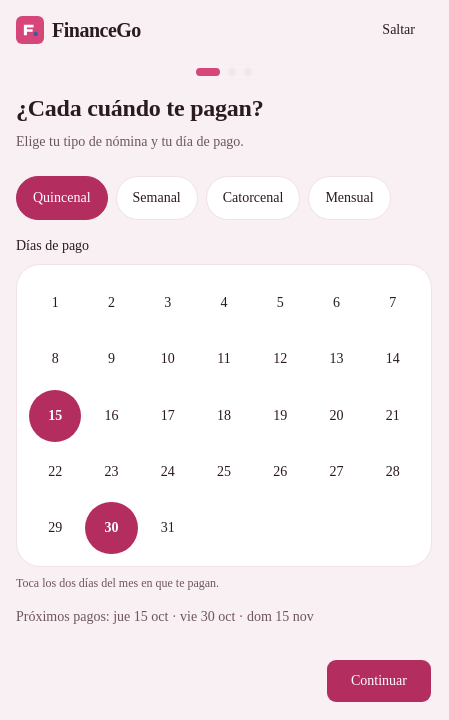
Test: WelcomeFlow › puts a server field error under its fixed-payment row and keeps the user there
This screenshot has width=449, height=720.
Click the button "Continuar" at (379, 682), box [326,660,432,704]
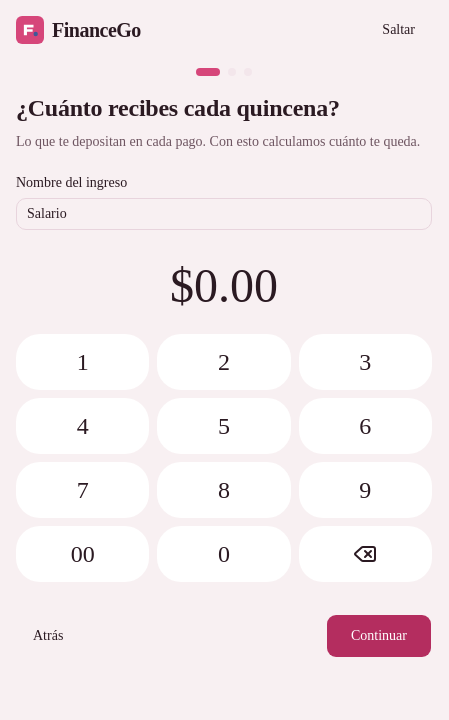
Check: the heading "¿Cuánto recibes cada quincena?" is shown, box [16,95,340,121]
Type keys "100"
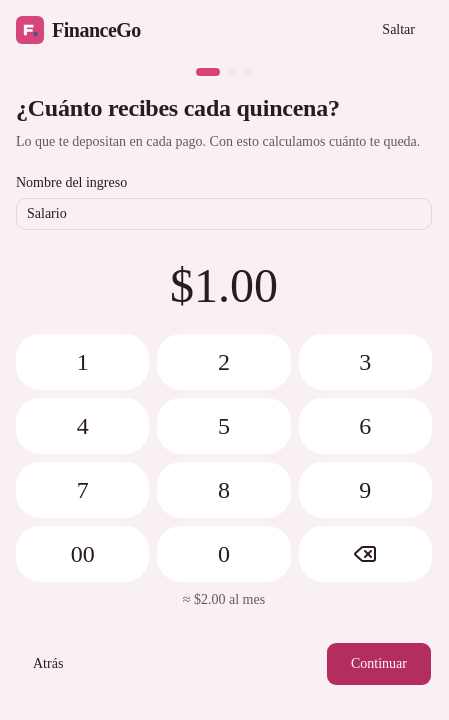
Click the button "Continuar" at (379, 664), box [326,642,432,686]
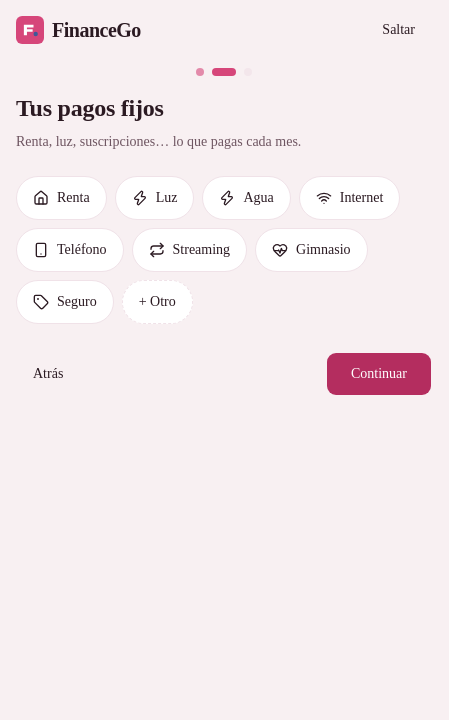
Click the button "Luz" at (155, 198), box [115,176,194,220]
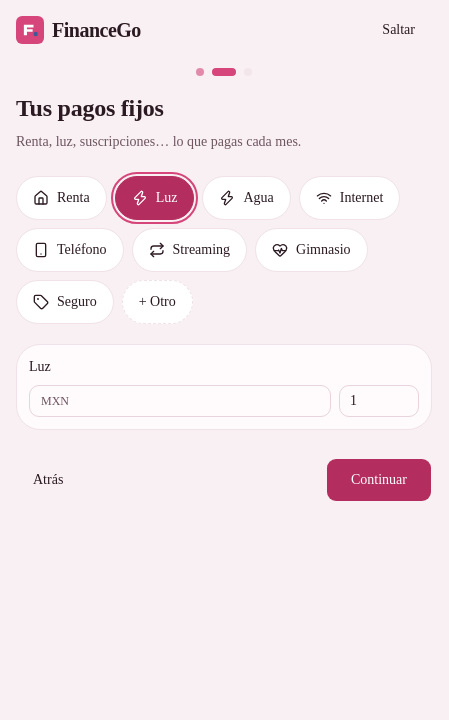
Type "5" into the field named "Luz: Monto" at (180, 401), box [29,385,331,417]
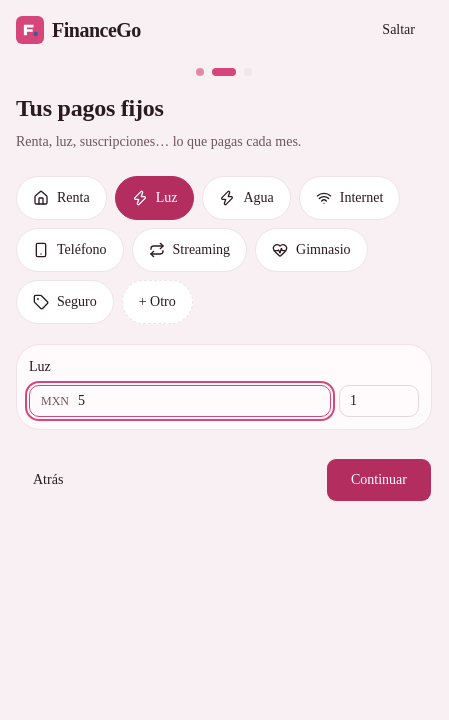
Click the button "Continuar" at (379, 480), box [326,458,432,502]
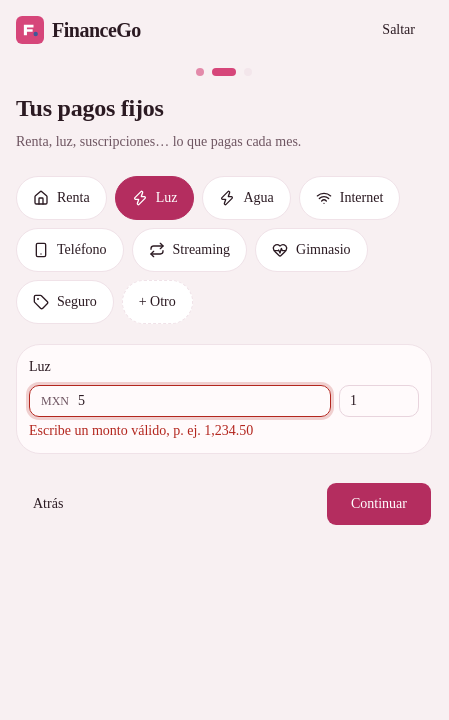
Check: the heading "Tus pagos fijos" is shown, box [16,95,164,121]
Check: the text "Escribe un monto válido, p. ej. 1,234.50" is shown, box [29,423,253,438]
